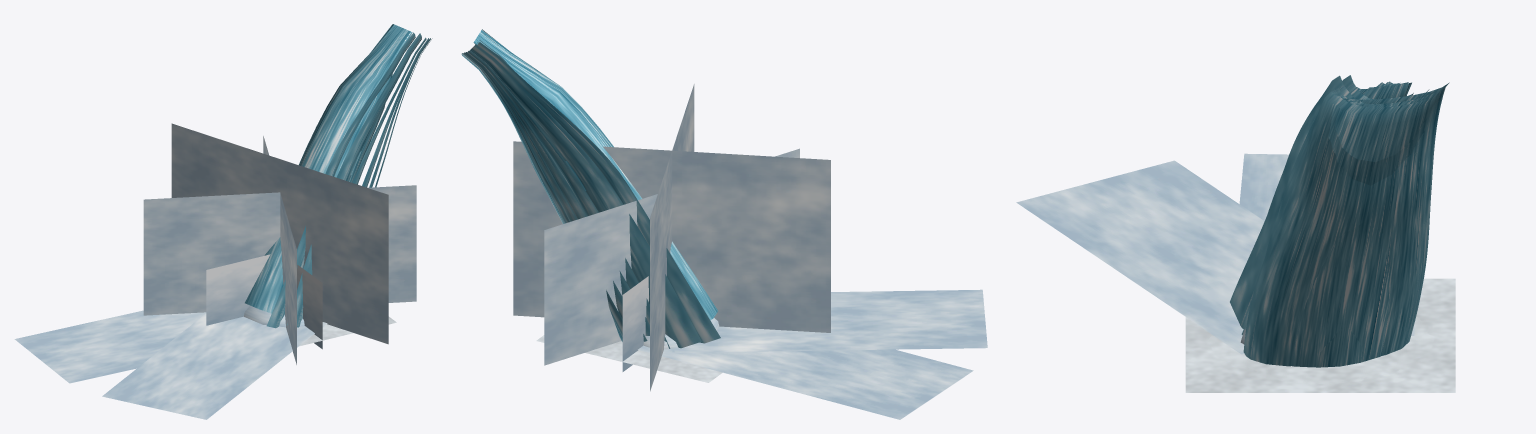
Rendered from aqueductfalls.glb.
3 views of the same model, side by side, from view 1: azimuth 30°, elevation 25°; view 2: azimuth 150°, elevation 25°; view 3: azimuth 270°, elevation 25° (orthographic). The views are drawn at different scales.
Parts seen in each view (by area): view 1: _MeshInstance3D_61, FoamDrift, FallCore, FoamCard, _MeshInstance3D_52, _MeshInstance3D_53, _MeshInstance3D_51, _MeshInstance3D_50, SplashRing, FoamMound, _MeshInstance3D_49; view 2: _MeshInstance3D_61, FoamDrift, _MeshInstance3D_52, _MeshInstance3D_53, FallCore, _MeshInstance3D_51, FoamCard, SplashRing, _MeshInstance3D_50, _MeshInstance3D_49, FallSheet; view 3: FoamDrift, FallSheet, SplashRing, _MeshInstance3D_49, _MeshInstance3D_50, _MeshInstance3D_52, FallCore.
Part boxes in pixels (x1,y1,x2,y2): _MeshInstance3D_61: (143,123,416,364); FoamDrift: (14,310,327,419); FallCore: (245,24,412,313); FoamCard: (206,254,322,349); _MeshInstance3D_52: (287,33,421,327); _MeshInstance3D_53: (267,32,415,328); _MeshInstance3D_51: (352,37,426,184); _MeshInstance3D_50: (362,38,429,187); SplashRing: (299,316,396,346); FoamMound: (243,305,304,327); _MeshInstance3D_49: (369,38,430,187); _MeshInstance3D_61: (513,84,830,391); FoamDrift: (638,289,987,419); _MeshInstance3D_52: (469,44,701,348); _MeshInstance3D_53: (477,42,720,343); FallCore: (473,29,717,320); _MeshInstance3D_51: (467,51,670,348); FoamCard: (622,276,648,371); SplashRing: (536,335,722,382); _MeshInstance3D_50: (462,52,649,335); _MeshInstance3D_49: (461,52,647,341); FallSheet: (461,53,622,341); FoamDrift: (1016,153,1415,354); FallSheet: (1243,82,1449,366); SplashRing: (1185,278,1455,392); _MeshInstance3D_49: (1265,85,1445,367); _MeshInstance3D_50: (1278,89,1437,367); _MeshInstance3D_52: (1230,75,1429,328); FallCore: (1363,82,1411,99).
Bounding box in the file's own units: 14.8 × 9.18 × 10.49.
Materials: 16 (16 with a texture image).
